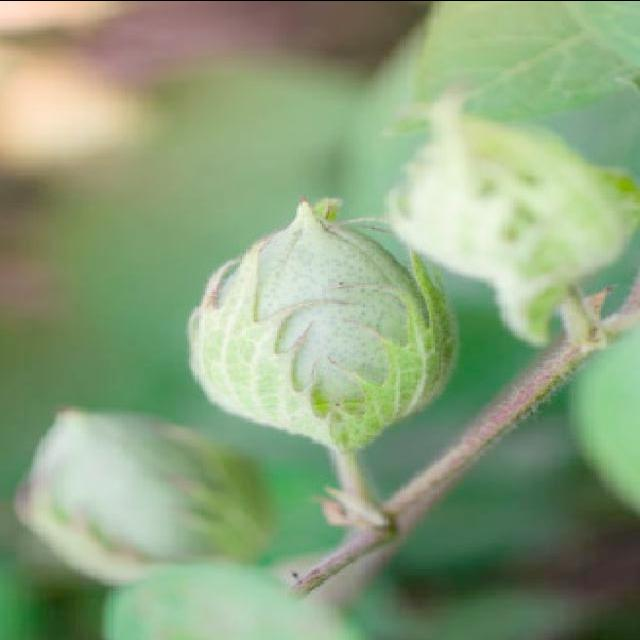Early Boll: (188, 212, 442, 454)
